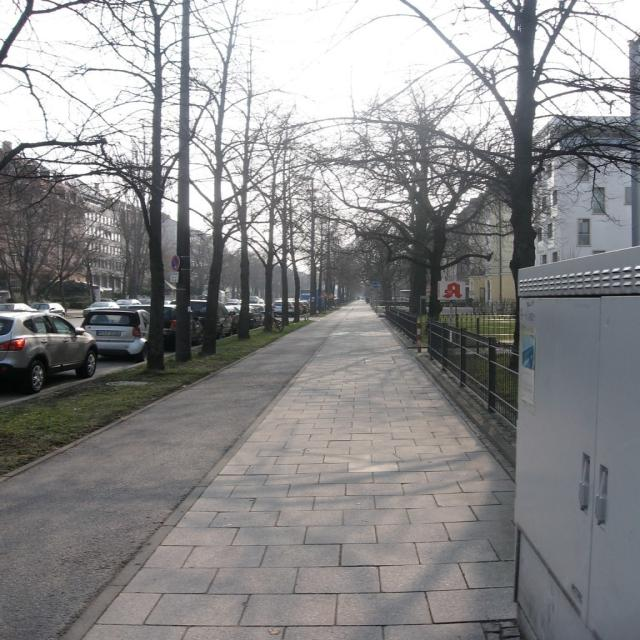car: (0, 300, 97, 388)
